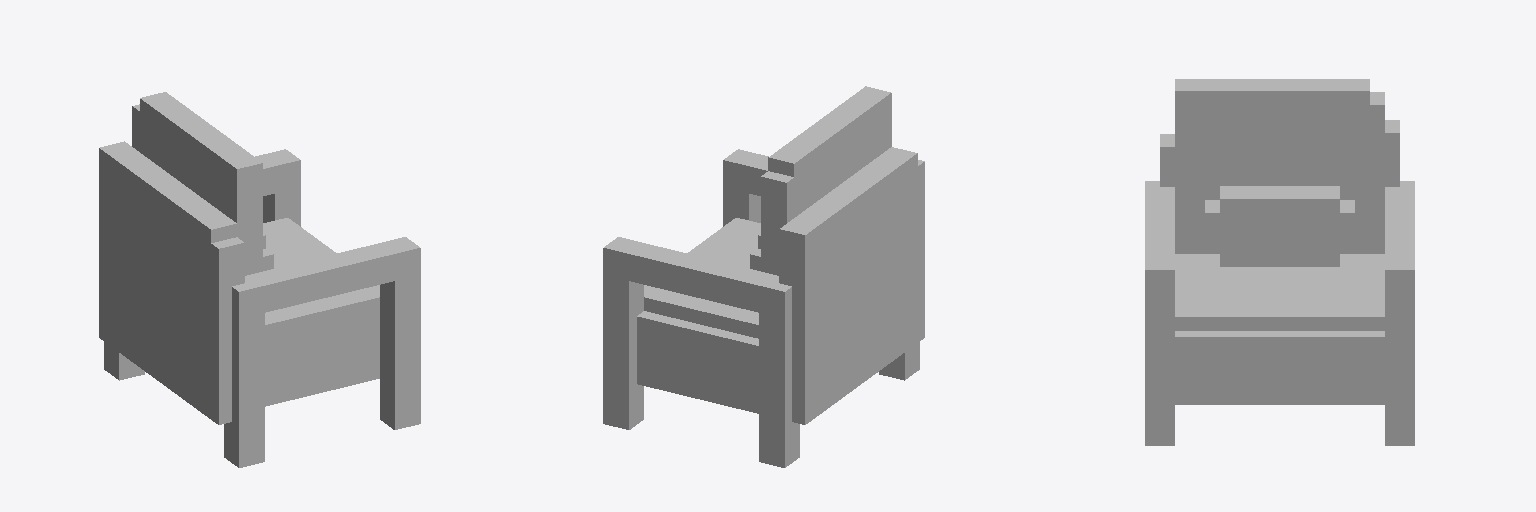
Rendered from House Interior Rooms - Free Sample-9.obj.
The picture shows the model from 3 angles: view 1: azimuth 30°, elevation 25°; view 2: azimuth 150°, elevation 25°; view 3: azimuth 270°, elevation 25°; orthographic projection.
Parts seen in each view (by area): view 1: object 1; view 2: object 1; view 3: object 1.
Part boxes in pixels (bbox=[...]): object 1: bbox=[99, 92, 420, 467]; object 1: bbox=[603, 86, 924, 467]; object 1: bbox=[1145, 79, 1414, 445].
Size of the model in its own units: 0.3 by 0.42 by 0.36.